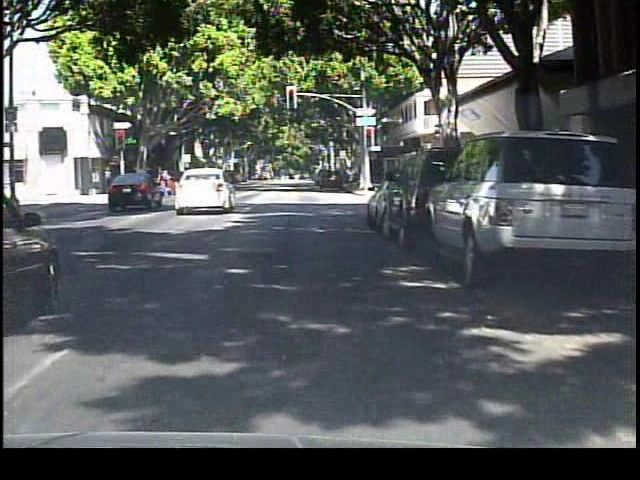person: (159, 163, 177, 204)
